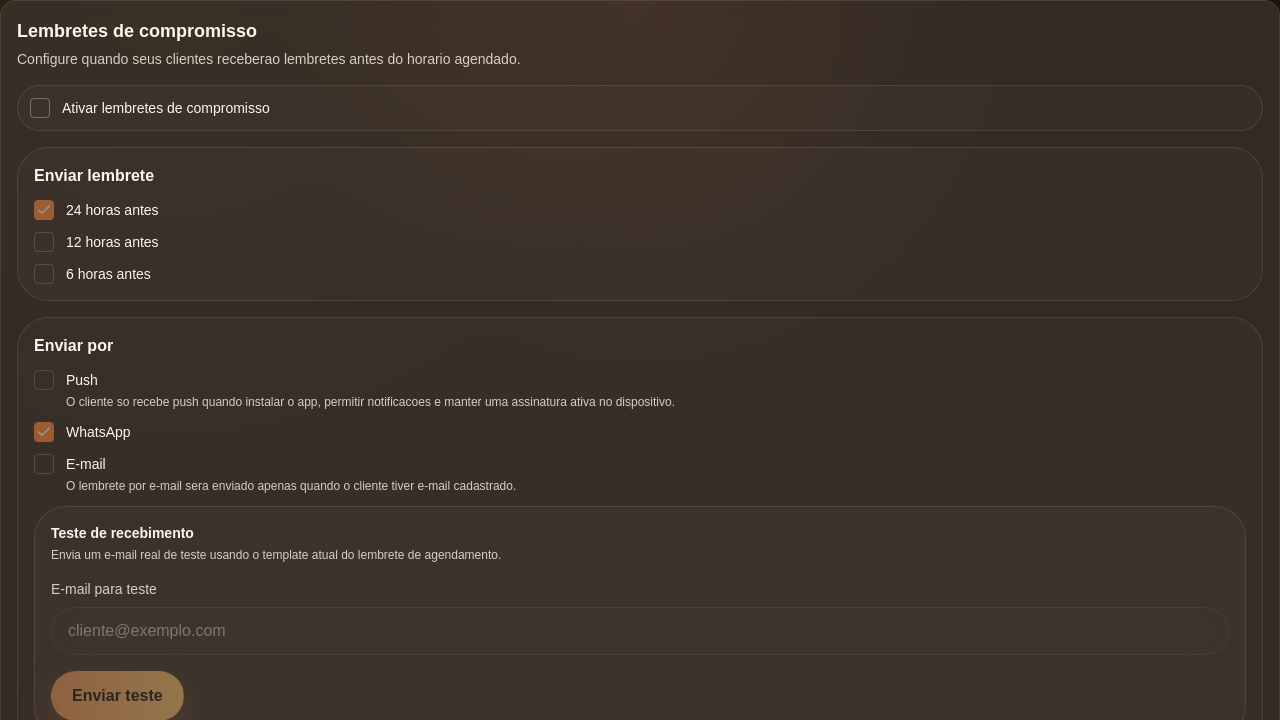
Scenario: BookingReminderConfig › shows validation error when enabled without offsets
expect the heading "Lembretes de compromisso" is shown: met, box [17,21,257,41]
Step 1. Click the checkbox named "Ativar lembretes de compromisso" next to "Ativar lembretes de compromisso" → click(40, 108), box [30,98,50,118]
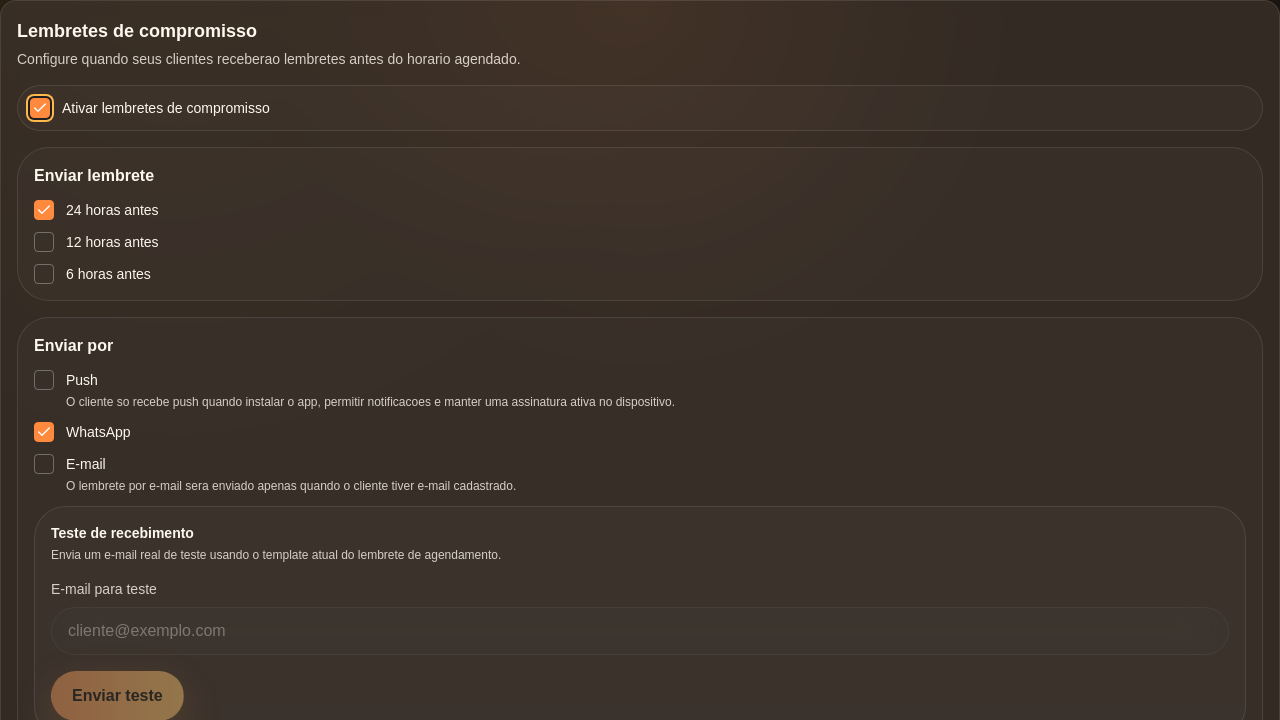
Step 2. Click the checkbox named "24 horas antes" next to "24 horas antes" → click(44, 210), box [34,200,54,220]
(page scrolled)
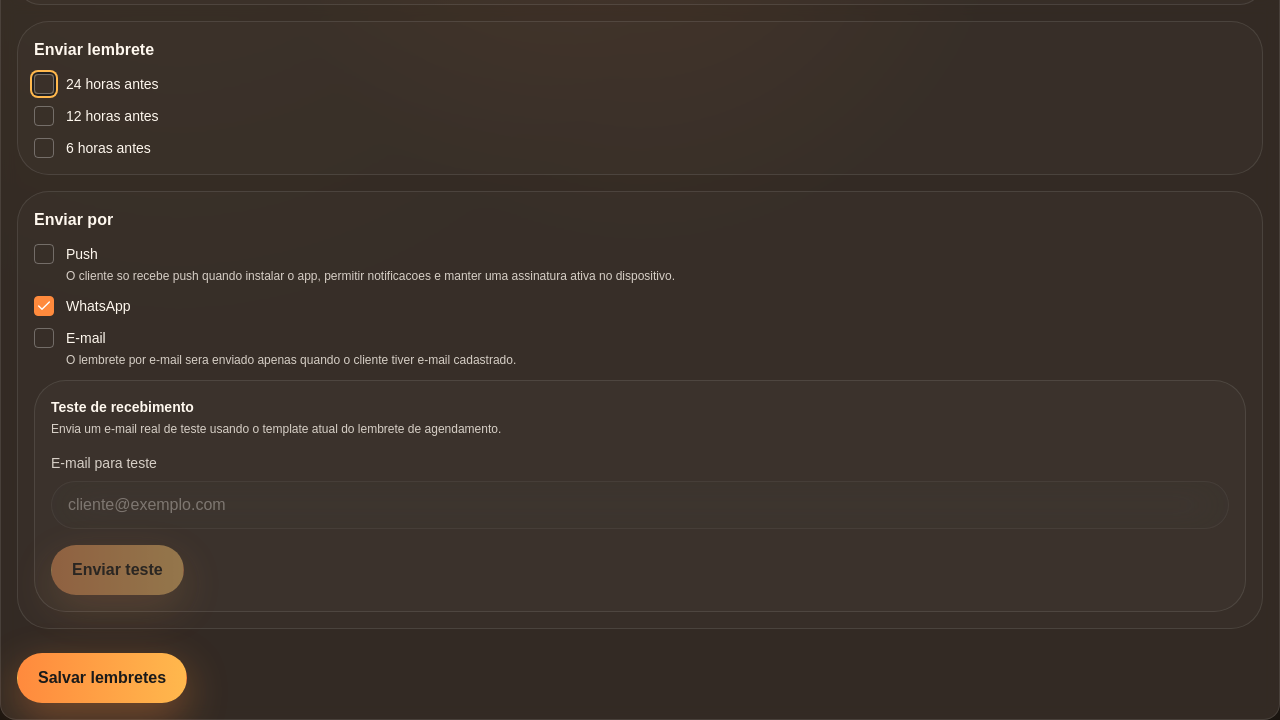
Step 3. Click the button "Salvar lembretes" → click(102, 678), box [17,653,187,703]
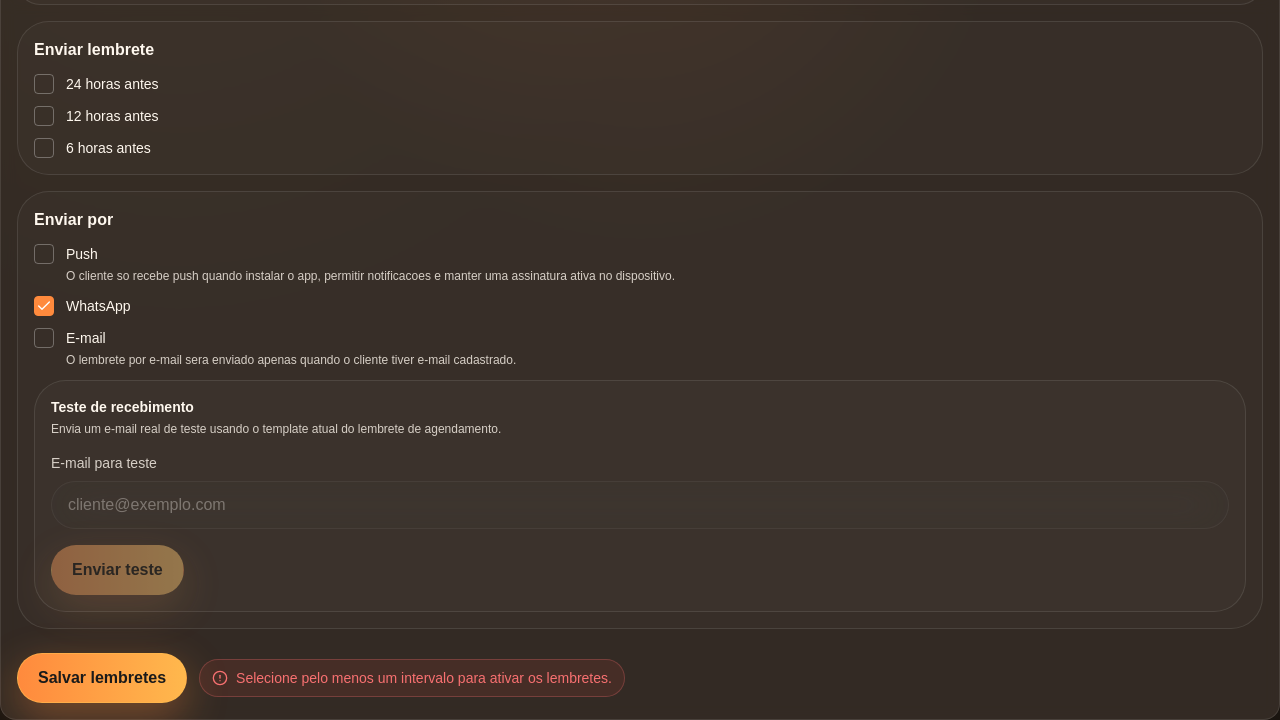
expect the text "Selecione pelo menos um intervalo para ativar os lembretes." is shown: met, box [199,659,625,697]
